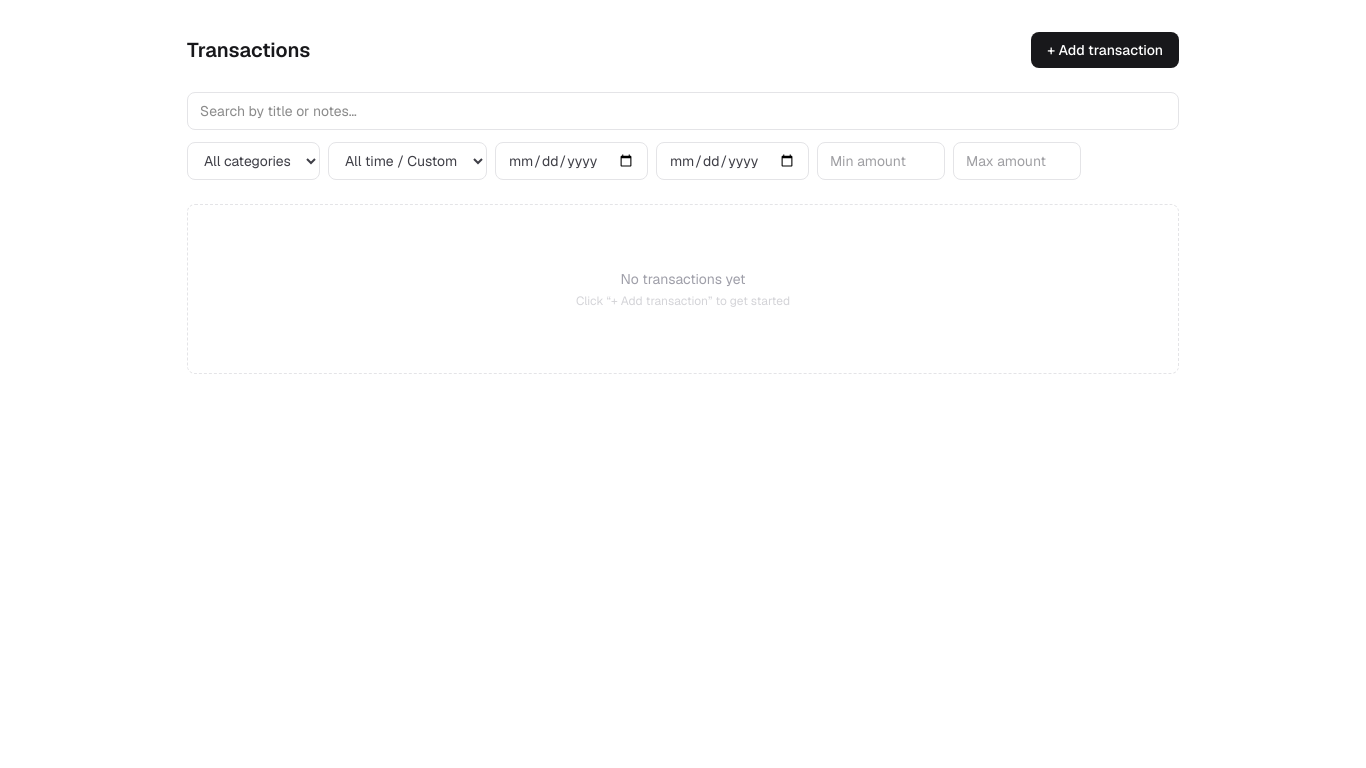
TransactionModal — form validation › shows "Title is required" and "Enter a positive amount" when submitted blank
Click the button "+ Add transaction".
click(1105, 50)  # box [1031,32,1179,68]
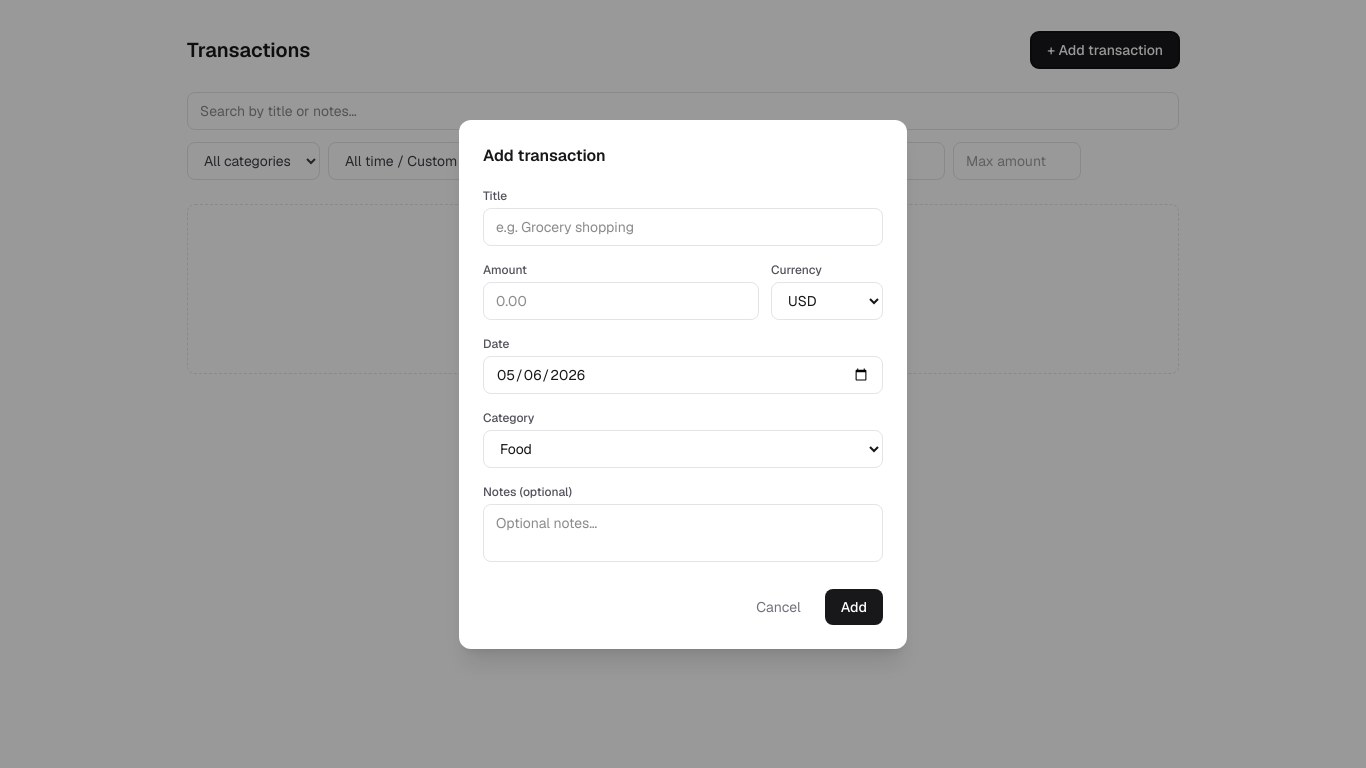
Click the button "Add".
click(854, 606)  # box [825,588,883,624]
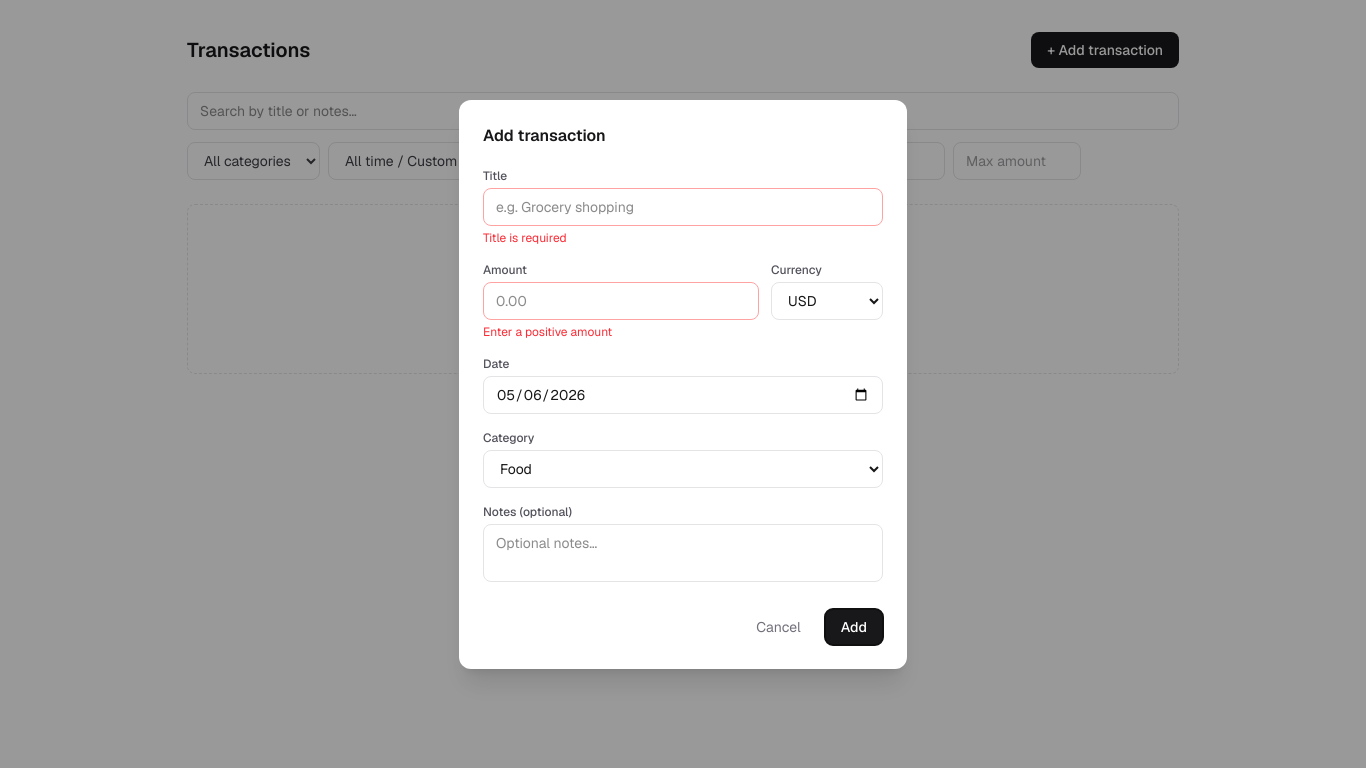
Now the text "Title is required" is shown, box [483,230,567,246]
Now the text "Enter a positive amount" is shown, box [483,324,612,340]
